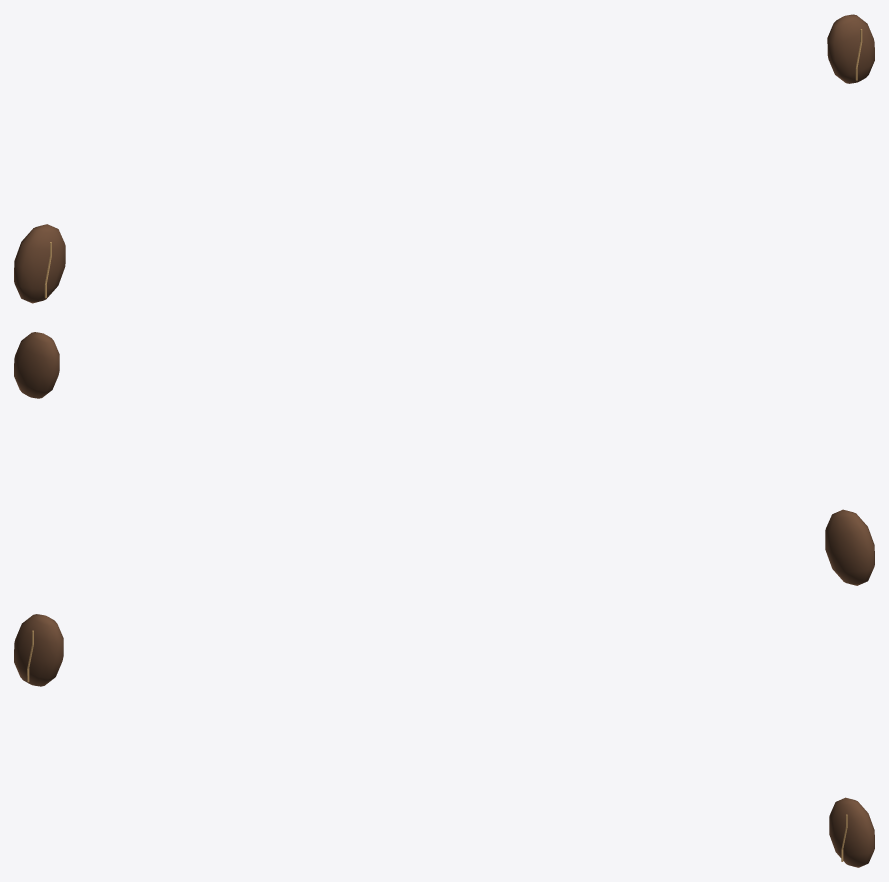
The model's file is orb4_near_variant_2.glb.
3 views of the same model, one above another, from view 1: azimuth 30°, elevation 25°; view 2: azimuth 150°, elevation 25°; view 3: azimuth 330°, elevation 25° (orthographic). The views are drawn at different scales.
Visible parts, largest first — view 1: orb4_near_variant_2__orb3-roasted-coffee; view 2: orb4_near_variant_2__orb3-roasted-coffee; view 3: orb4_near_variant_2__orb3-roasted-coffee.
Part boxes in pixels (x1,y1,x2,y2): orb4_near_variant_2__orb3-roasted-coffee: [14, 14, 874, 303]; orb4_near_variant_2__orb3-roasted-coffee: [14, 332, 874, 585]; orb4_near_variant_2__orb3-roasted-coffee: [14, 614, 874, 867].
Bounding box in the file's own units: 5.92 × 0.49 × 0.3983.
